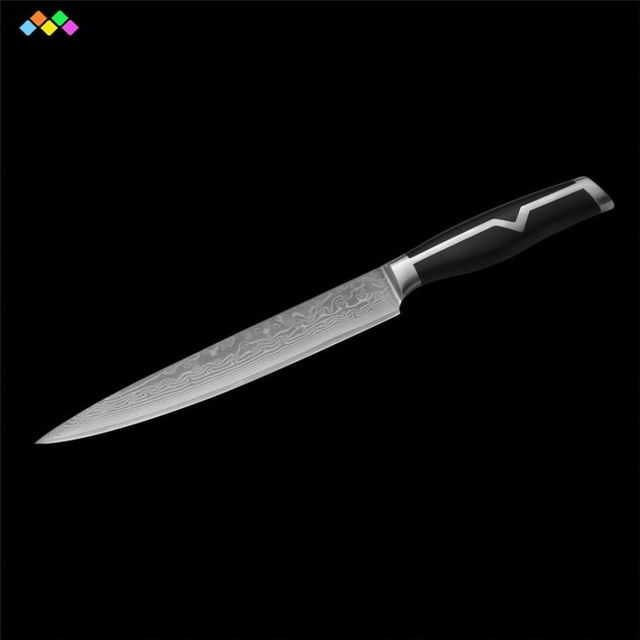knief: (30, 171, 620, 452)
